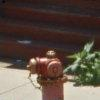Hydrant: (22, 42, 75, 100)
